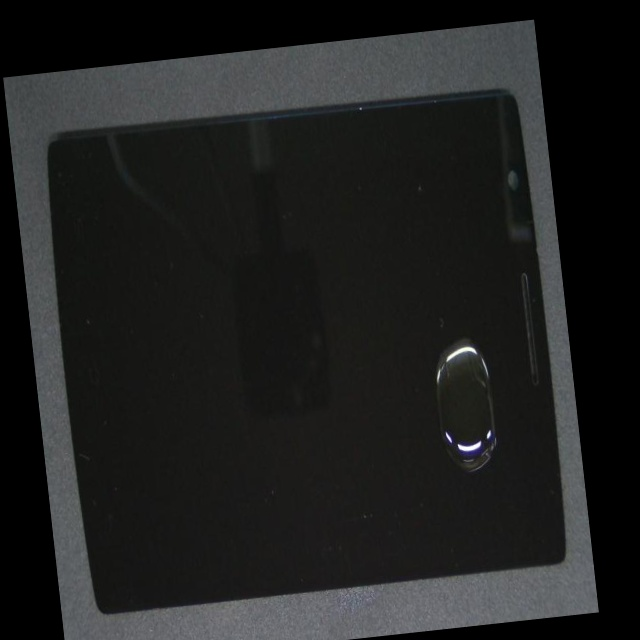oil: (262, 182, 585, 521)
